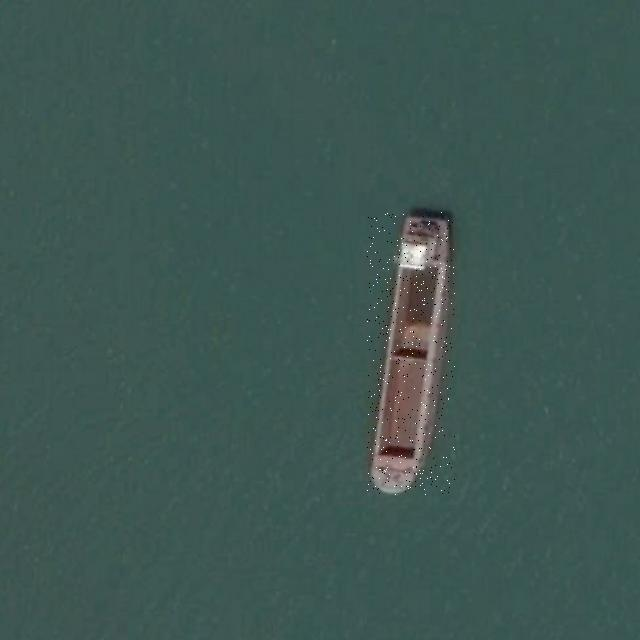boat: (367, 211, 455, 495)
